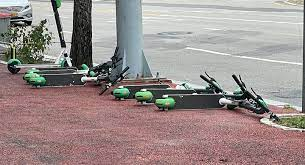fallin_kick: (154, 90, 281, 125), (29, 67, 130, 94)
kick_neck: (51, 1, 64, 45)
kick_wheel: (6, 58, 20, 74)
